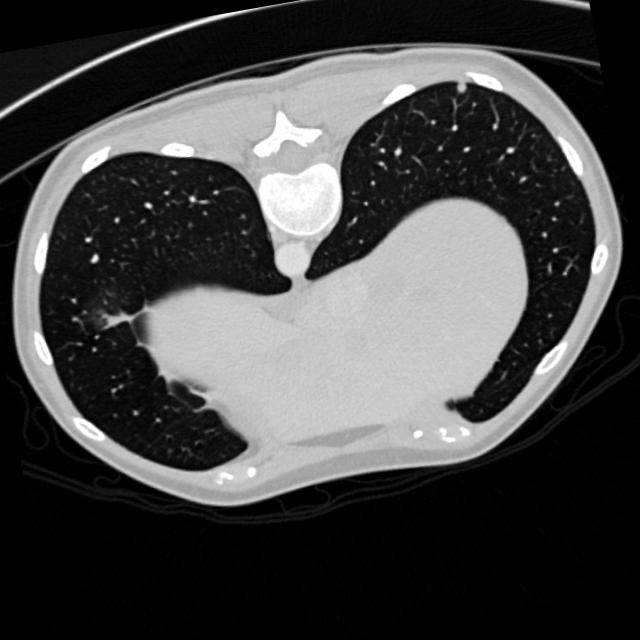nodule: (449, 74, 474, 100)
